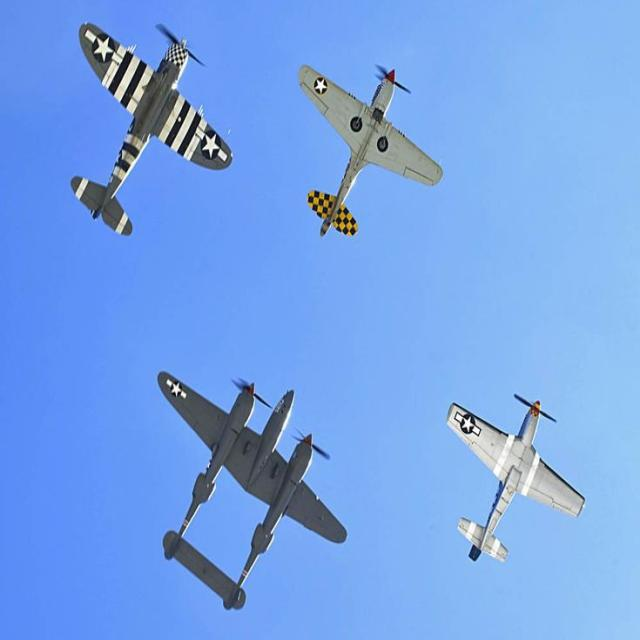iha: (155, 367, 349, 616), (69, 17, 235, 239), (443, 386, 590, 569), (297, 61, 444, 241)
